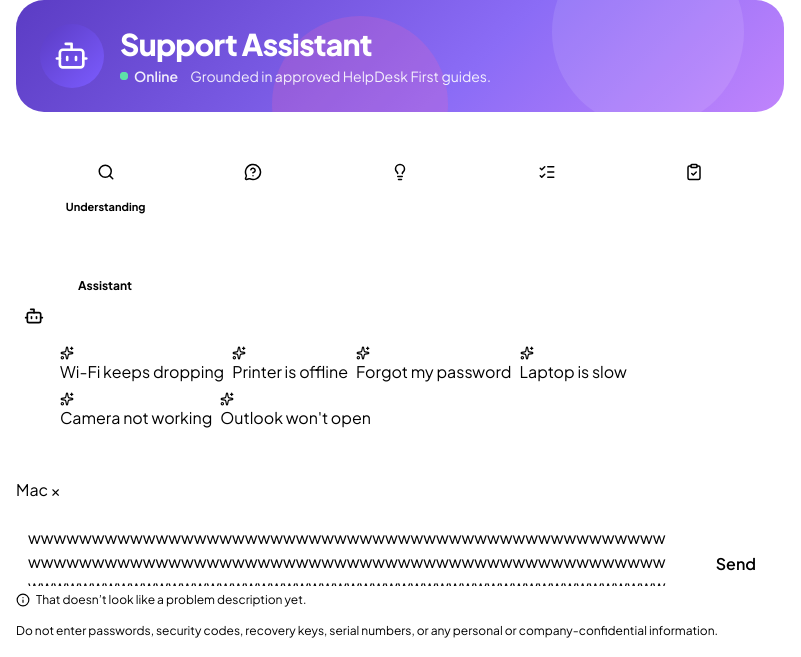
Test: AssistantWorkspace › blocks an overlong problem without sending it
What coordinates should you click on to do the following:
click the button "Send"
I would click on:
 (736, 564)
Its box is [688,542,784,586].
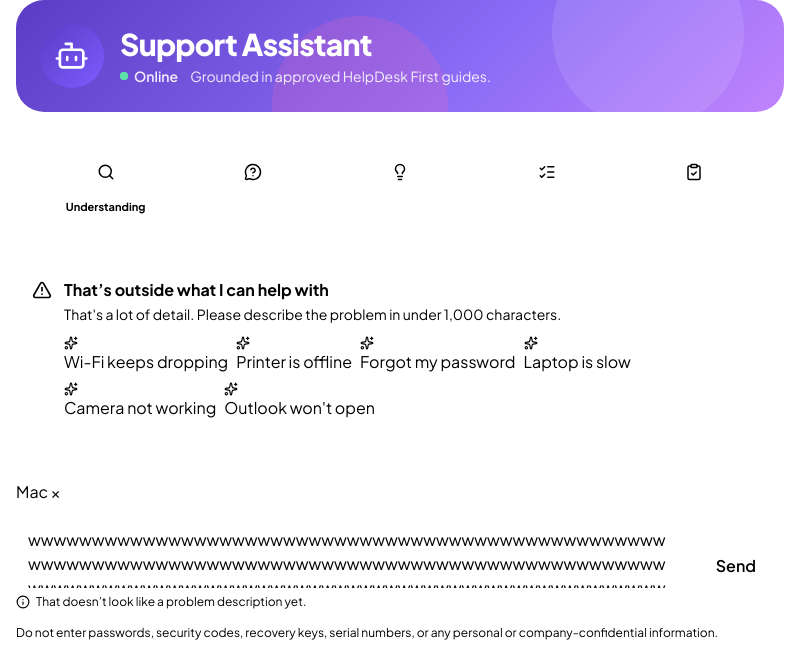
Now the text "That's a lot of detail. Please describe the problem in under 1,000 characters." is shown, box [64,305,561,323]
